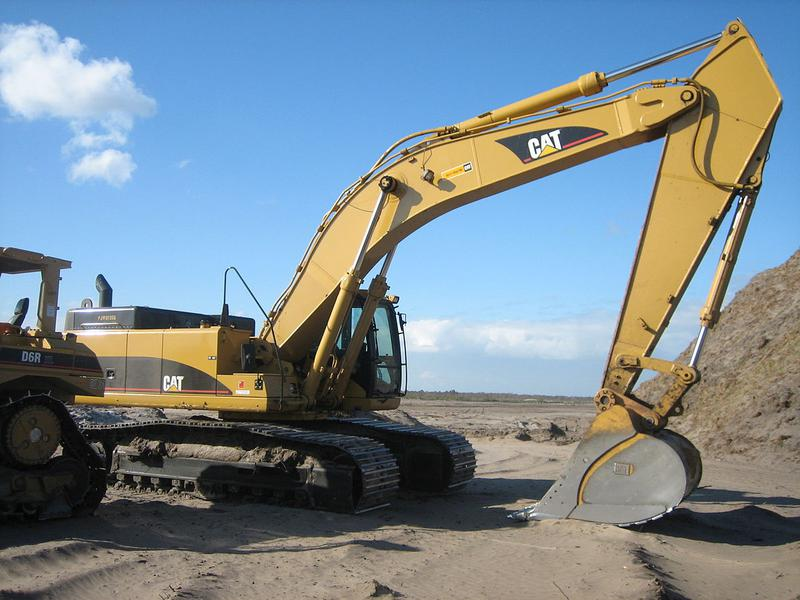shovel: (65, 16, 783, 528)
